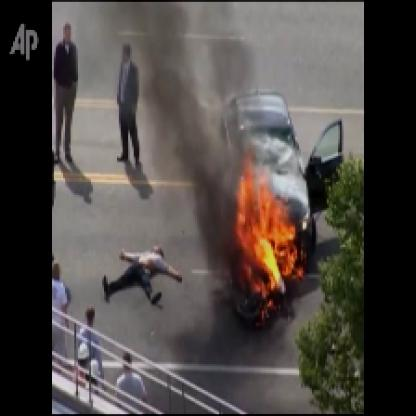Fire: (225, 143, 312, 319)
Smoke: (139, 2, 240, 271)
